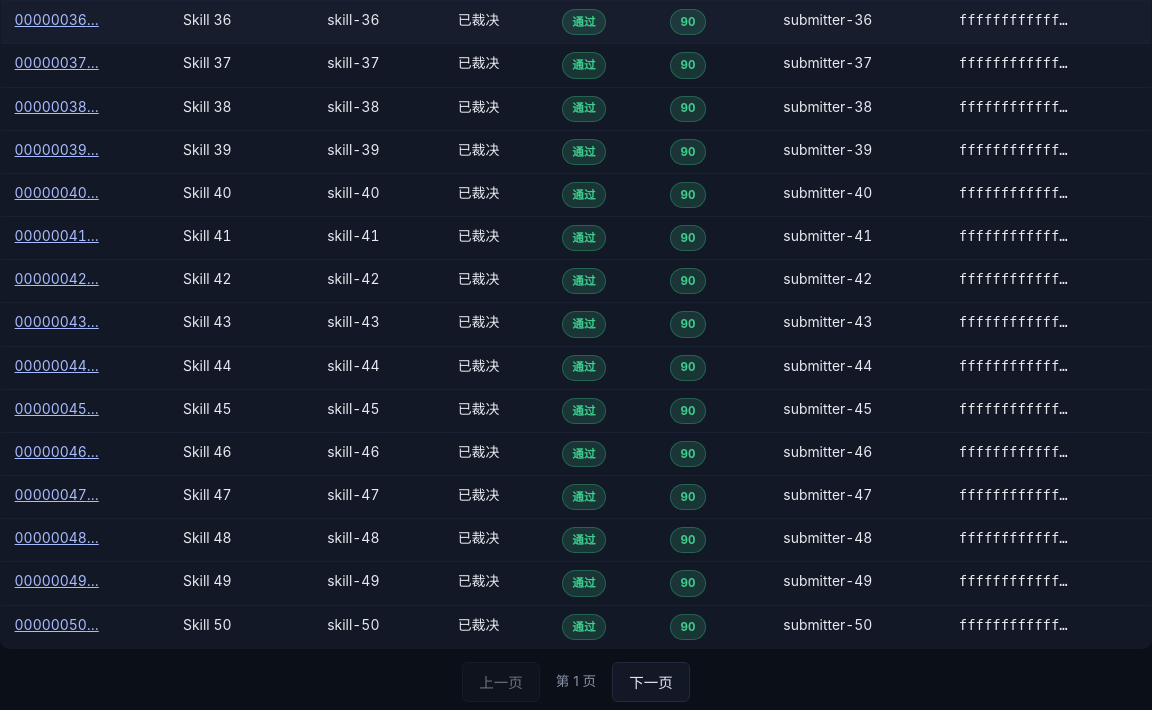
Test: ScansPage pagination › advances the offset by one page, not by the over-fetched row count
(page scrolled)
Click the button "下一页" at coordinates (651, 682), box 612,662 -> 690,702
(page scrolled)
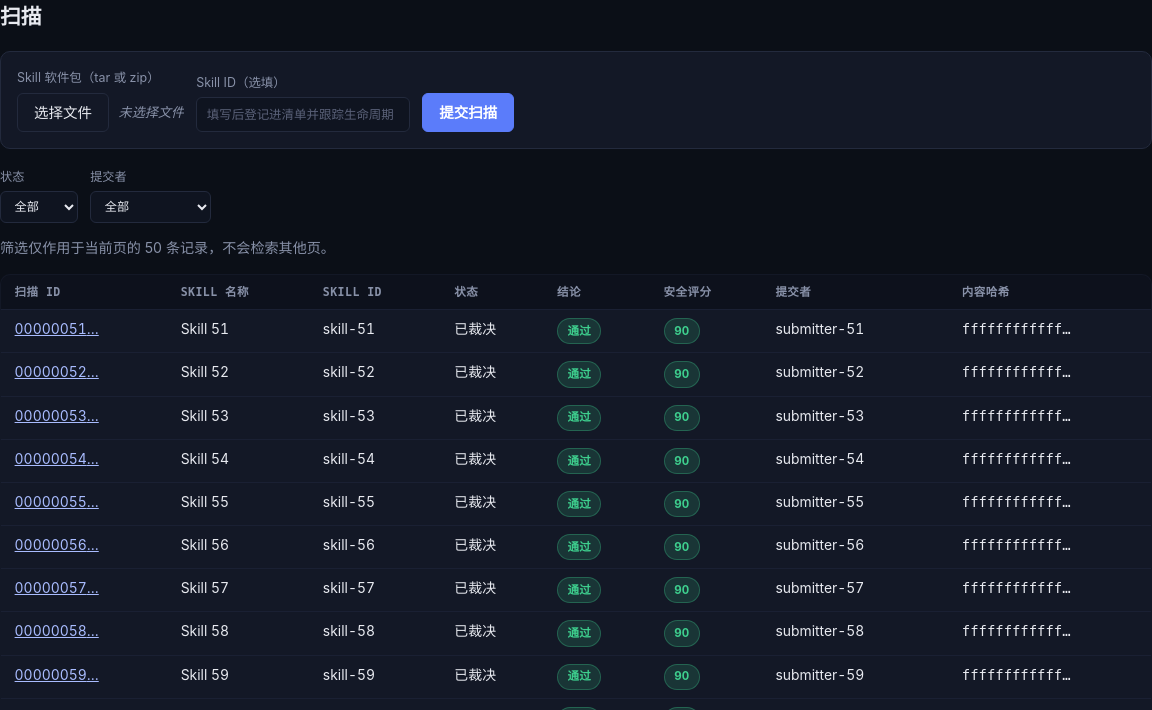
Expected: the text "Skill 51" is shown, 167,310 -> 309,353
